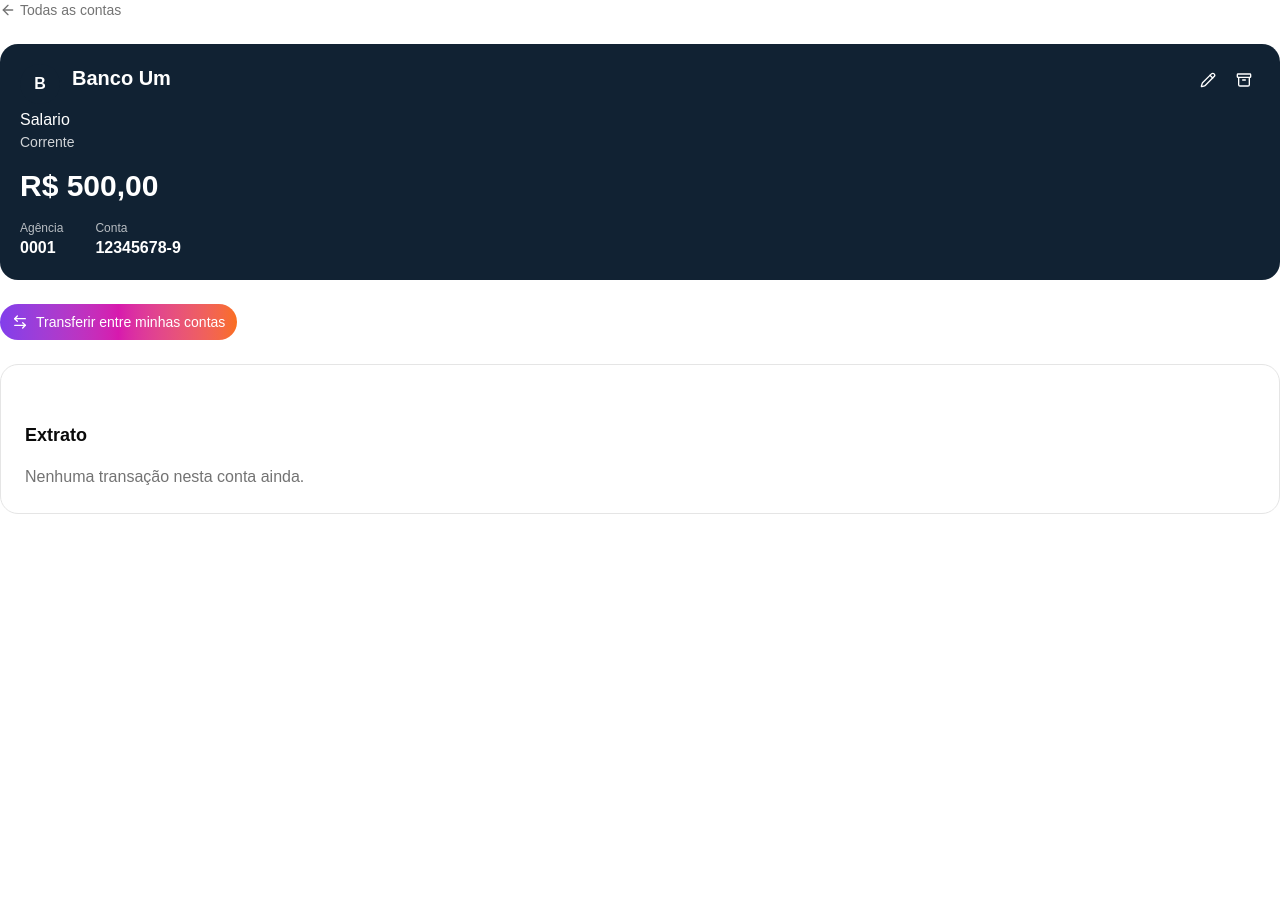
Test: detalhe da conta › encerrar conta com pendencia mostra mensagem DISTINTA da de saldo
Click the button named "Encerrar conta" at (1244, 80), box [1228, 64, 1260, 96]
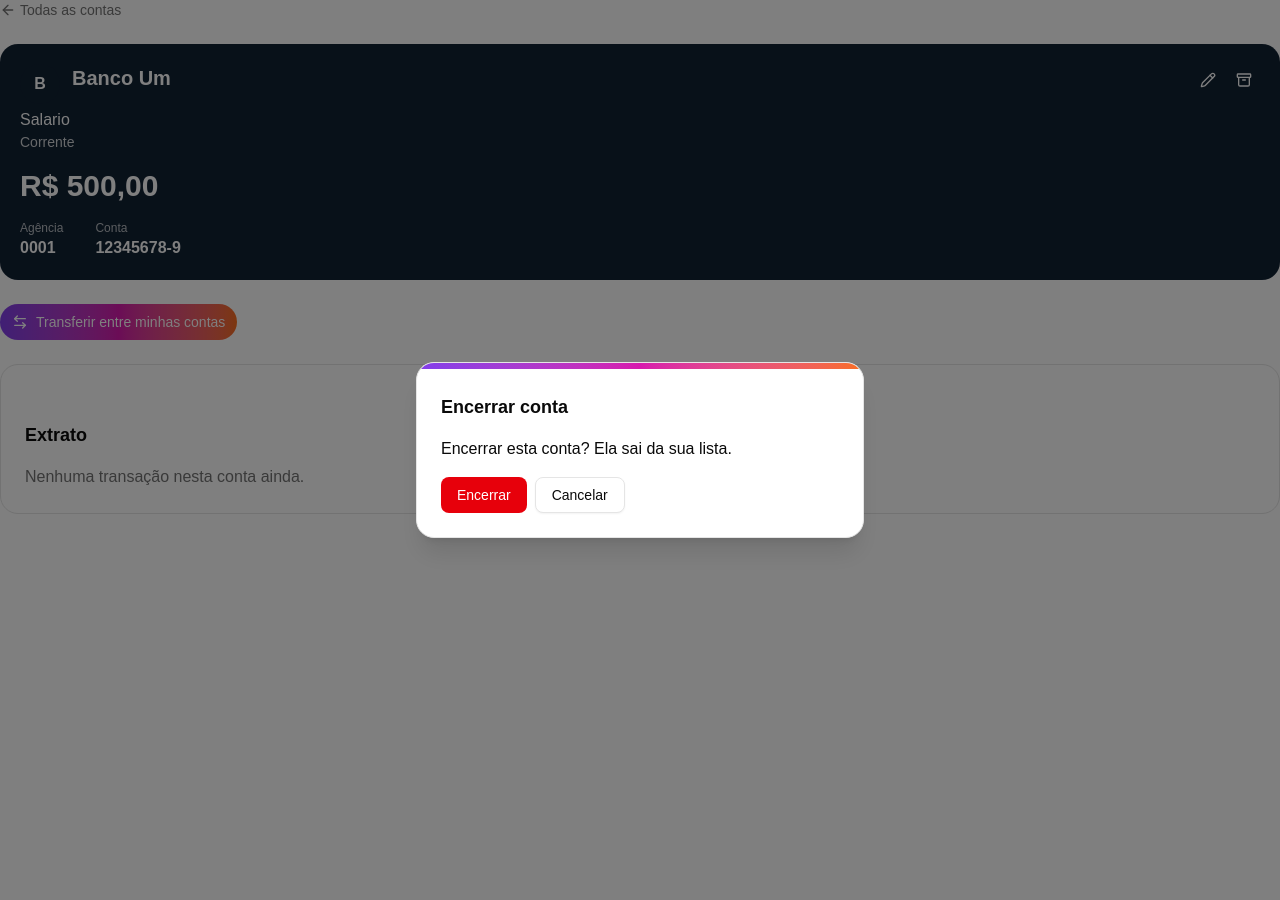
Click the button "Encerrar" at (484, 495), box [441, 477, 527, 513]
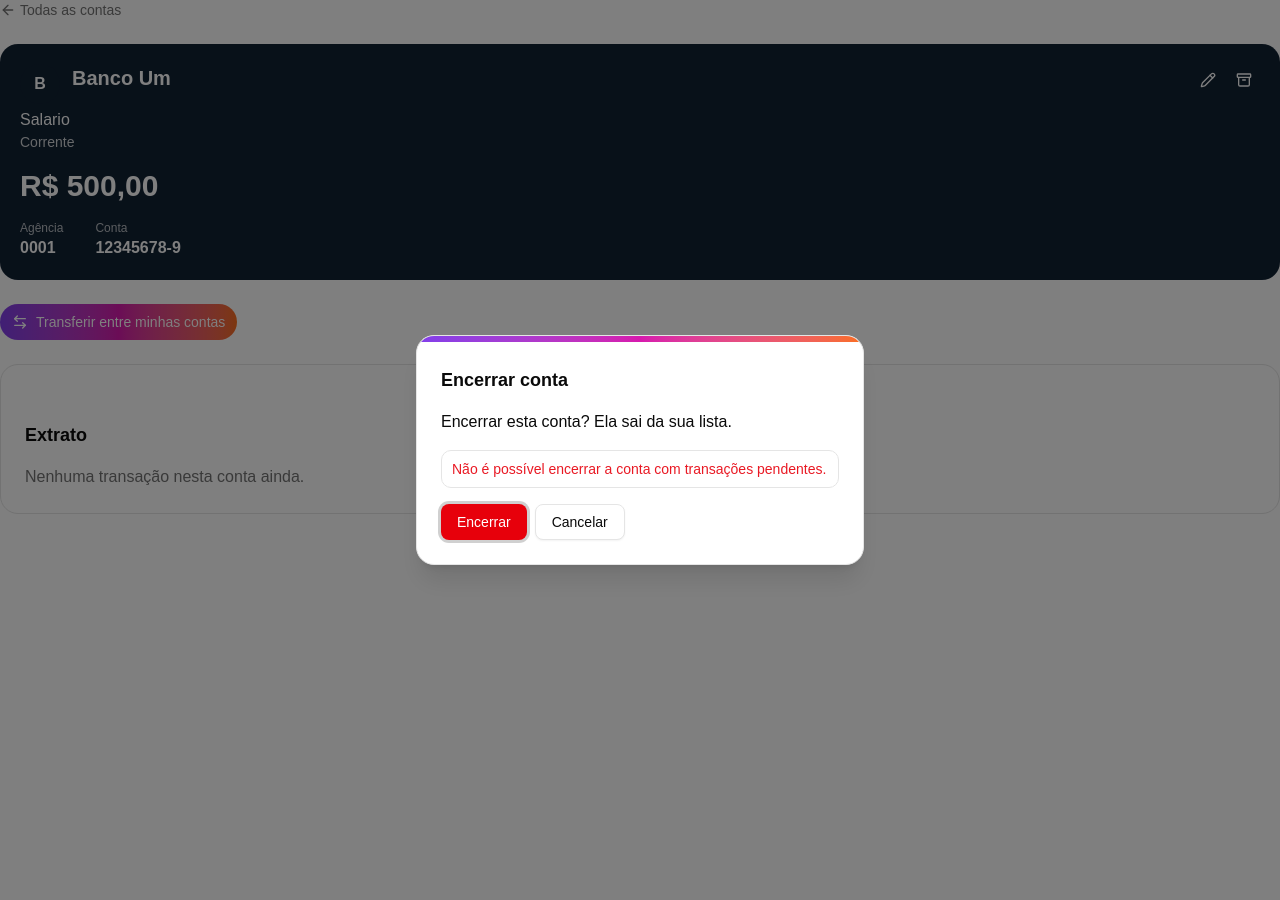
Now the message reads "Não é possível encerrar a conta com transações pendentes.", box [452, 461, 826, 477]
